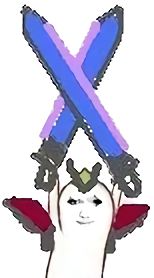dragon: (66, 195, 104, 226)
